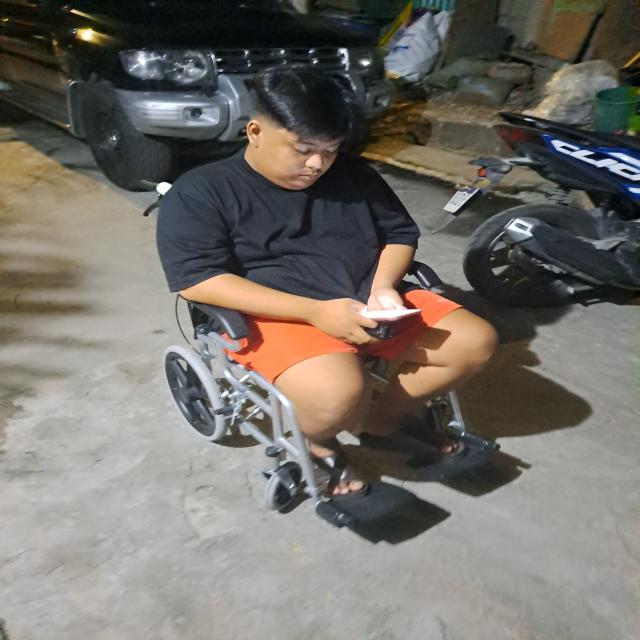wheelchairs: (128, 176, 529, 538)
